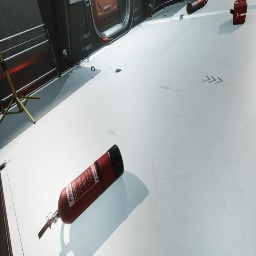FireExtinguisher ]: (38, 144, 124, 239)
FirstAidBox ,: (230, 0, 248, 25)
NitrogenTank ,: (186, 0, 208, 14)
SafetySwitchPanel ,: (68, 0, 83, 5)
